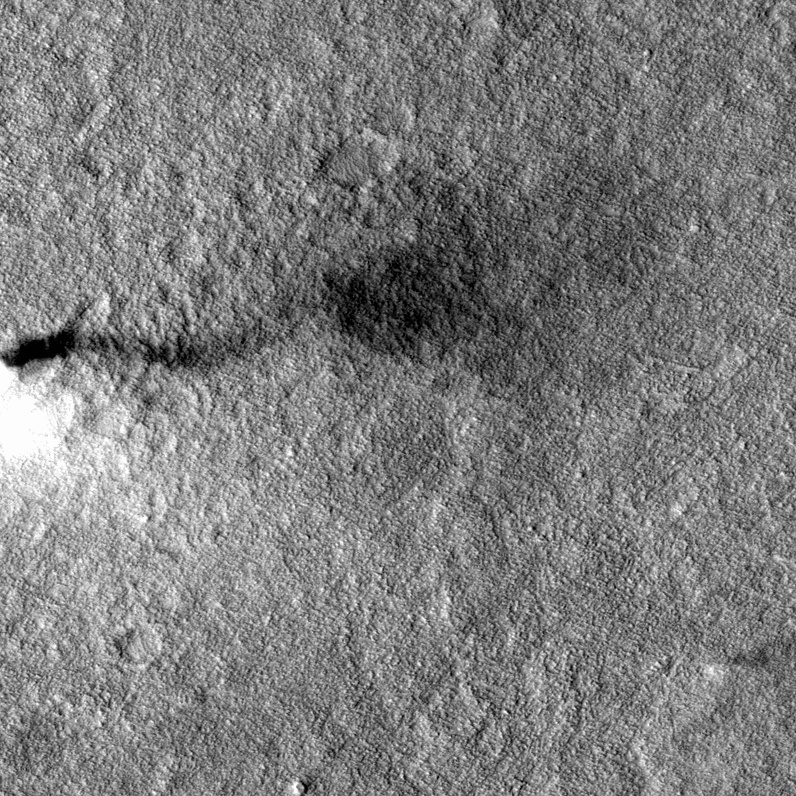dust_devil: (1, 234, 460, 465), (701, 635, 796, 685)
